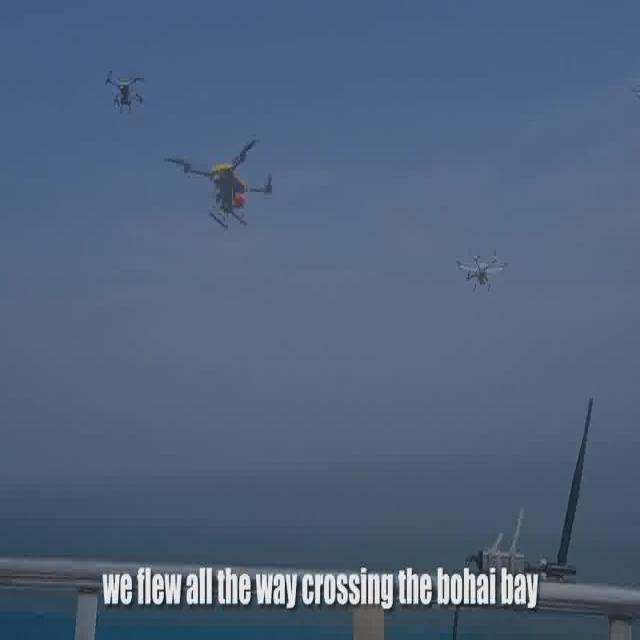Drone_FW: (163, 129, 283, 241)
